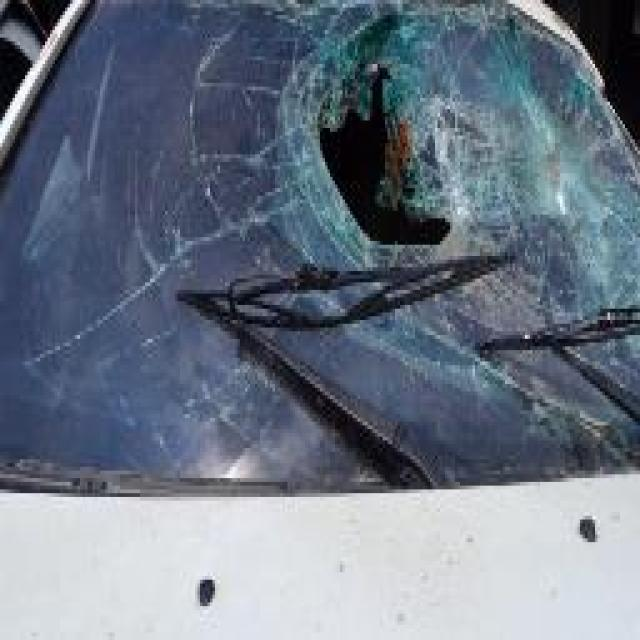Windshield: (0, 0, 640, 497)
